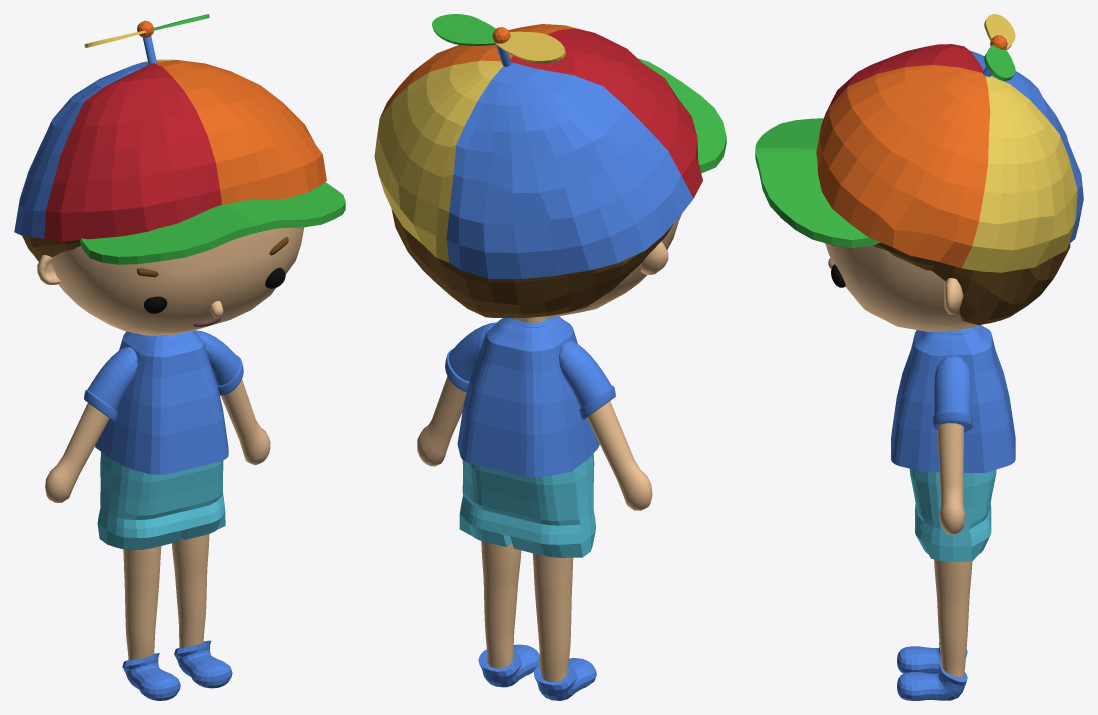
Rendered from voyou.fbx.
The picture shows the model from 3 angles, left to right: view 1: azimuth 30°, elevation 25°; view 2: azimuth 150°, elevation 25°; view 3: azimuth 270°, elevation 25°; orthographic projection. The views are drawn at different scales.
Visible parts, largest first — view 1: Sphere.002, head, shirt, jumper, Cylinder, Vert, sleeves, arms.001, arms.002, Vert.001, Vert.002, Sphere; view 2: Sphere.002, shirt, jumper, Vert, Sphere, sleeves, arms.001, Cylinder, arms.002, Cylinder.003, Cylinder.002, Vert.002 (+3 smaller); view 3: Sphere.002, shirt, Cylinder, head, jumper, Sphere, Vert, arms.002, sleeves, Vert.002, Vert.001, Cylinder.003 (+2 smaller).
Part boxes in pixels (bbox=[...]): Sphere.002: bbox=[14, 59, 326, 241]; head: bbox=[50, 227, 304, 335]; shirt: bbox=[95, 330, 228, 474]; jumper: bbox=[97, 452, 225, 550]; Cylinder: bbox=[80, 182, 345, 264]; Vert: bbox=[123, 534, 209, 660]; sleeves: bbox=[84, 330, 243, 421]; arms.001: bbox=[45, 403, 109, 502]; arms.002: bbox=[221, 379, 270, 465]; Vert.001: bbox=[122, 653, 180, 700]; Vert.002: bbox=[174, 640, 232, 688]; Sphere: bbox=[22, 235, 80, 261]; Sphere.002: bbox=[374, 24, 702, 278]; shirt: bbox=[457, 316, 599, 477]; jumper: bbox=[459, 453, 595, 557]; Vert: bbox=[481, 541, 573, 682]; Sphere: bbox=[391, 209, 673, 317]; sleeves: bbox=[445, 322, 615, 420]; arms.001: bbox=[587, 401, 652, 510]; Cylinder: bbox=[638, 58, 726, 172]; arms.002: bbox=[417, 376, 466, 466]; Cylinder.003: bbox=[431, 14, 495, 45]; Cylinder.002: bbox=[495, 31, 565, 63]; Vert.002: bbox=[478, 644, 539, 687]; Sphere.002: bbox=[816, 44, 1083, 272]; shirt: bbox=[891, 325, 1015, 472]; Cylinder: bbox=[755, 118, 880, 248]; head: bbox=[825, 243, 982, 331]; jumper: bbox=[909, 468, 996, 561]; Sphere: bbox=[873, 242, 1070, 324]; Vert: bbox=[934, 559, 972, 677]; arms.002: bbox=[937, 423, 965, 534]; sleeves: bbox=[932, 355, 972, 432]; Vert.002: bbox=[897, 662, 967, 700]; Vert.001: bbox=[897, 642, 967, 673]; Cylinder.003: bbox=[984, 45, 1015, 80].
Bounding box in the file's own units: 201 × 448 × 205.
